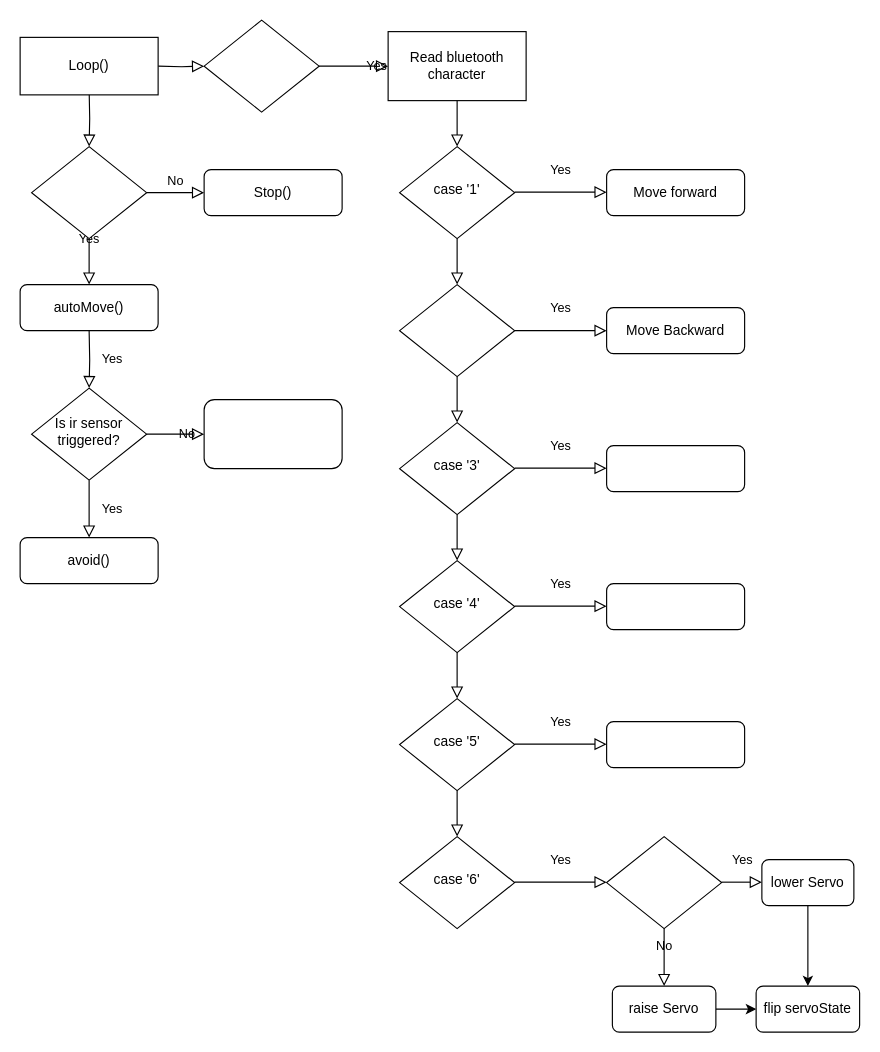
The diagram is 880 pixels wide and 1052 high, and some of its shapes have lost their labels. Each missing label, with the box of its shape:
case '2': (398, 283, 515, 377)
Is BT data available?: (203, 19, 319, 112)
Is robot Autonomous?: (30, 145, 147, 239)
Is servoState == true?: (605, 835, 722, 929)
readSensor() calculatePID() move motors: (203, 398, 342, 469)
Toggle autonomous state: (605, 720, 745, 768)
Turn Left: (605, 444, 745, 492)
Turn Right: (605, 582, 745, 630)
